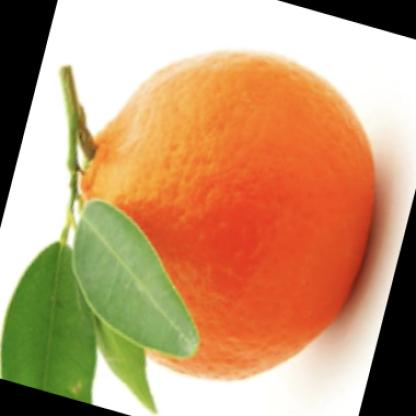fresh: (65, 49, 374, 383)
